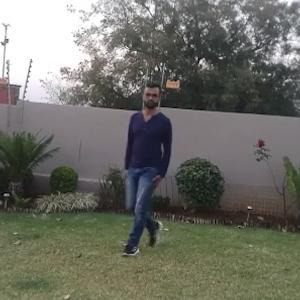follow: (127, 81, 185, 251)
